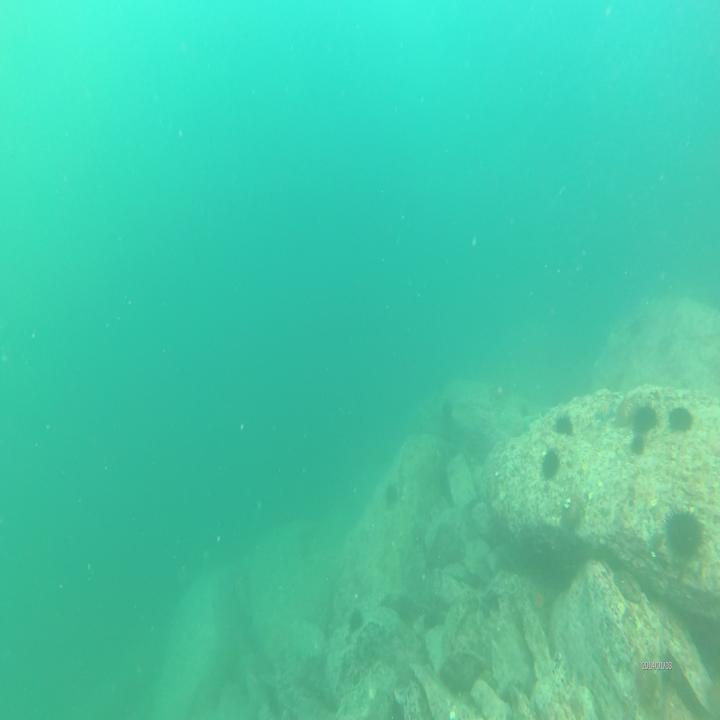echinus: (664, 500, 704, 566), (667, 405, 694, 436), (634, 402, 658, 435), (541, 446, 562, 483), (550, 409, 577, 437)
